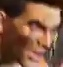kevin: (7, 4, 59, 66)
